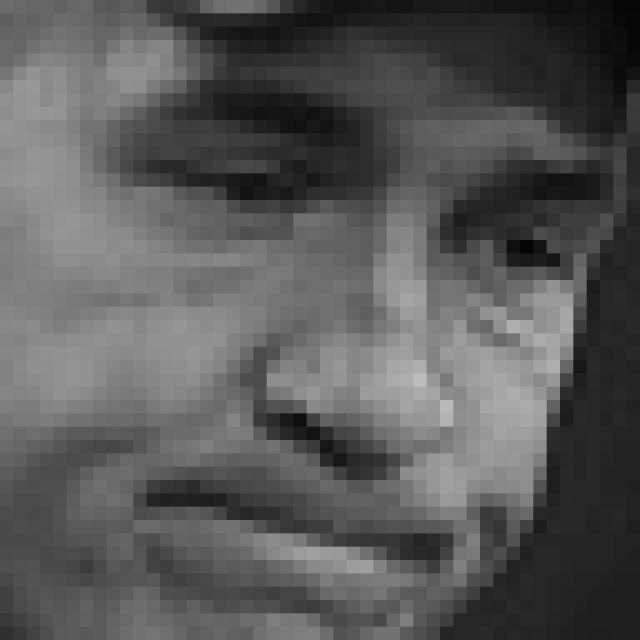sad: (96, 69, 611, 614)
